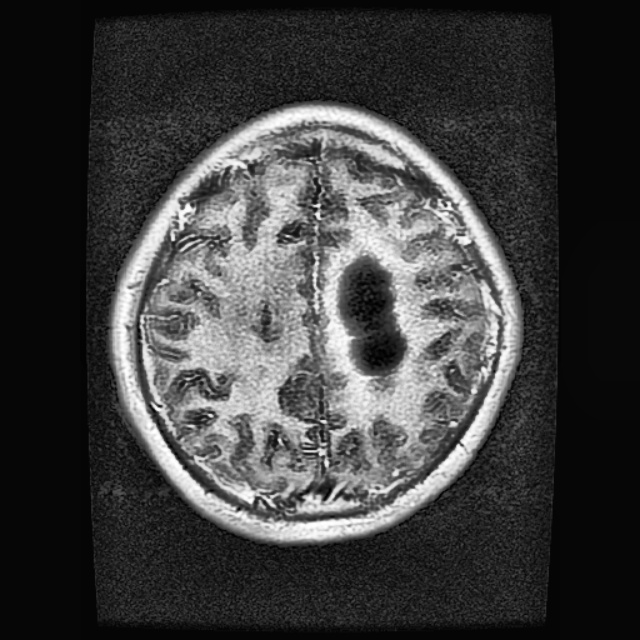Glioma: (339, 257, 404, 374)
